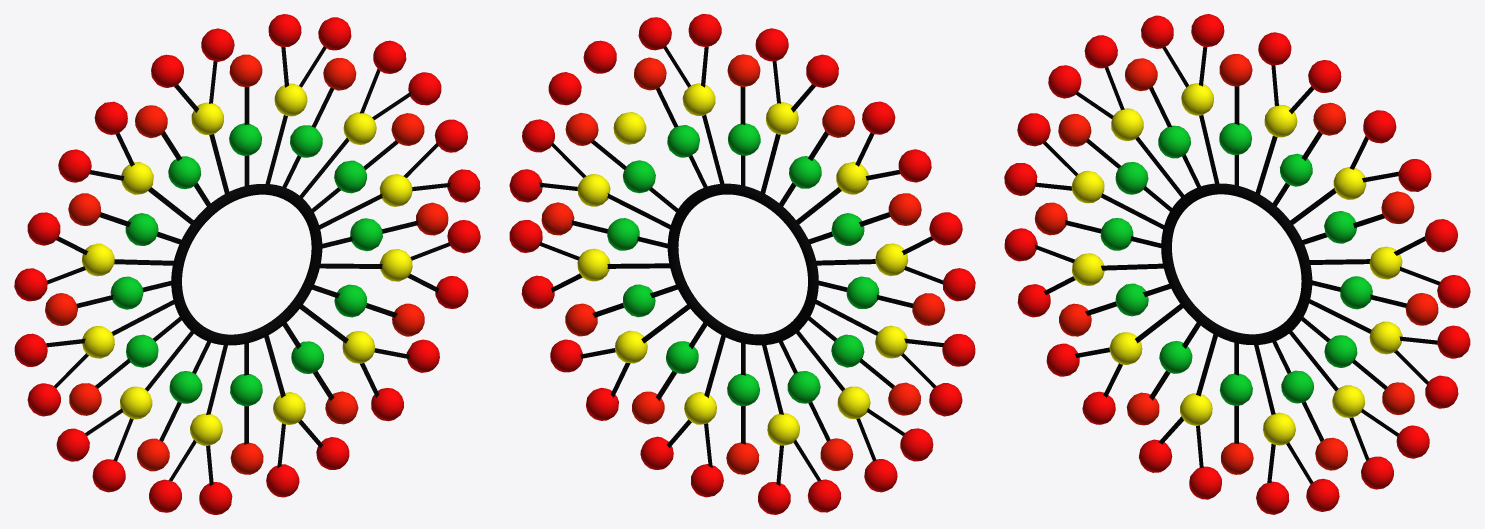
File: color.obj
3 views of the same model, side by side, from view 1: azimuth 30°, elevation 25°; view 2: azimuth 150°, elevation 25°; view 3: azimuth 330°, elevation 25° (orthographic).
Parts seen in each view (by area): view 1: Sphere.006_Sphere.015, LIneas_Plane.012, Sphere.001_Sphere.016, Sphere_Sphere.001, Sphere.011_Sphere.014, centro_Torus.001; view 2: Sphere.006_Sphere.015, LIneas_Plane.012, Sphere.001_Sphere.016, Sphere_Sphere.001, Sphere.011_Sphere.014, centro_Torus.001; view 3: Sphere.006_Sphere.015, LIneas_Plane.012, Sphere.001_Sphere.016, Sphere_Sphere.001, Sphere.011_Sphere.014, centro_Torus.001.
Part boxes in pixels (x1,y1,x2,y2): Sphere.006_Sphere.015: [14, 14, 480, 514]; LIneas_Plane.012: [46, 46, 450, 485]; Sphere.001_Sphere.016: [45, 54, 448, 474]; Sphere_Sphere.001: [110, 123, 382, 406]; Sphere.011_Sphere.014: [82, 83, 412, 445]; centro_Torus.001: [171, 184, 322, 345]; Sphere.006_Sphere.015: [509, 14, 975, 514]; LIneas_Plane.012: [539, 46, 943, 485]; Sphere.001_Sphere.016: [541, 54, 945, 474]; Sphere_Sphere.001: [607, 123, 879, 406]; Sphere.011_Sphere.014: [577, 83, 908, 445]; centro_Torus.001: [667, 183, 818, 345]; Sphere.006_Sphere.015: [1004, 14, 1470, 514]; LIneas_Plane.012: [1034, 46, 1439, 483]; Sphere.001_Sphere.016: [1034, 54, 1438, 474]; Sphere_Sphere.001: [1100, 122, 1372, 405]; Sphere.011_Sphere.014: [1071, 83, 1402, 445]; centro_Torus.001: [1161, 183, 1312, 344].
Bounding box in the file's own units: 7.42 × 7.41 × 0.4635.
